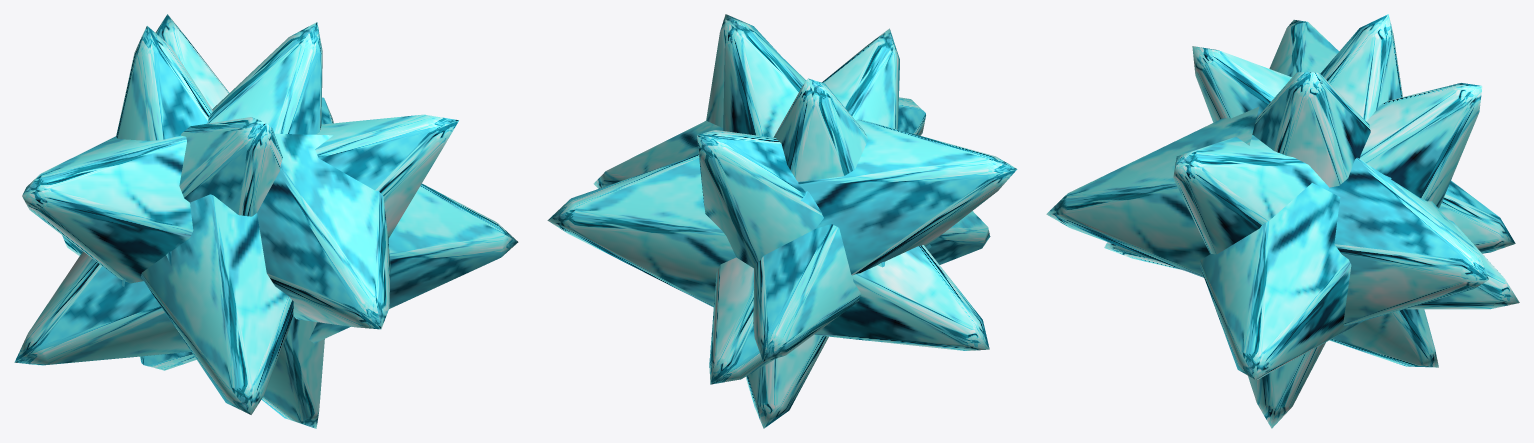
The model's file is IceSpikes0.fbx.
3 renders of one model, left to right at view 1: azimuth 30°, elevation 25°; view 2: azimuth 150°, elevation 25°; view 3: azimuth 270°, elevation 25°, orthographic. The views are drawn at different scales.
Parts seen in each view (by area): view 1: IceSpikes; view 2: IceSpikes; view 3: IceSpikes.
Part boxes in pixels (box(x1,y1,x2,y2)): IceSpikes: box(14, 14, 518, 428); IceSpikes: box(547, 14, 1017, 428); IceSpikes: box(1046, 14, 1519, 428).
Size of the model in its own units: 305 by 237 by 277.
